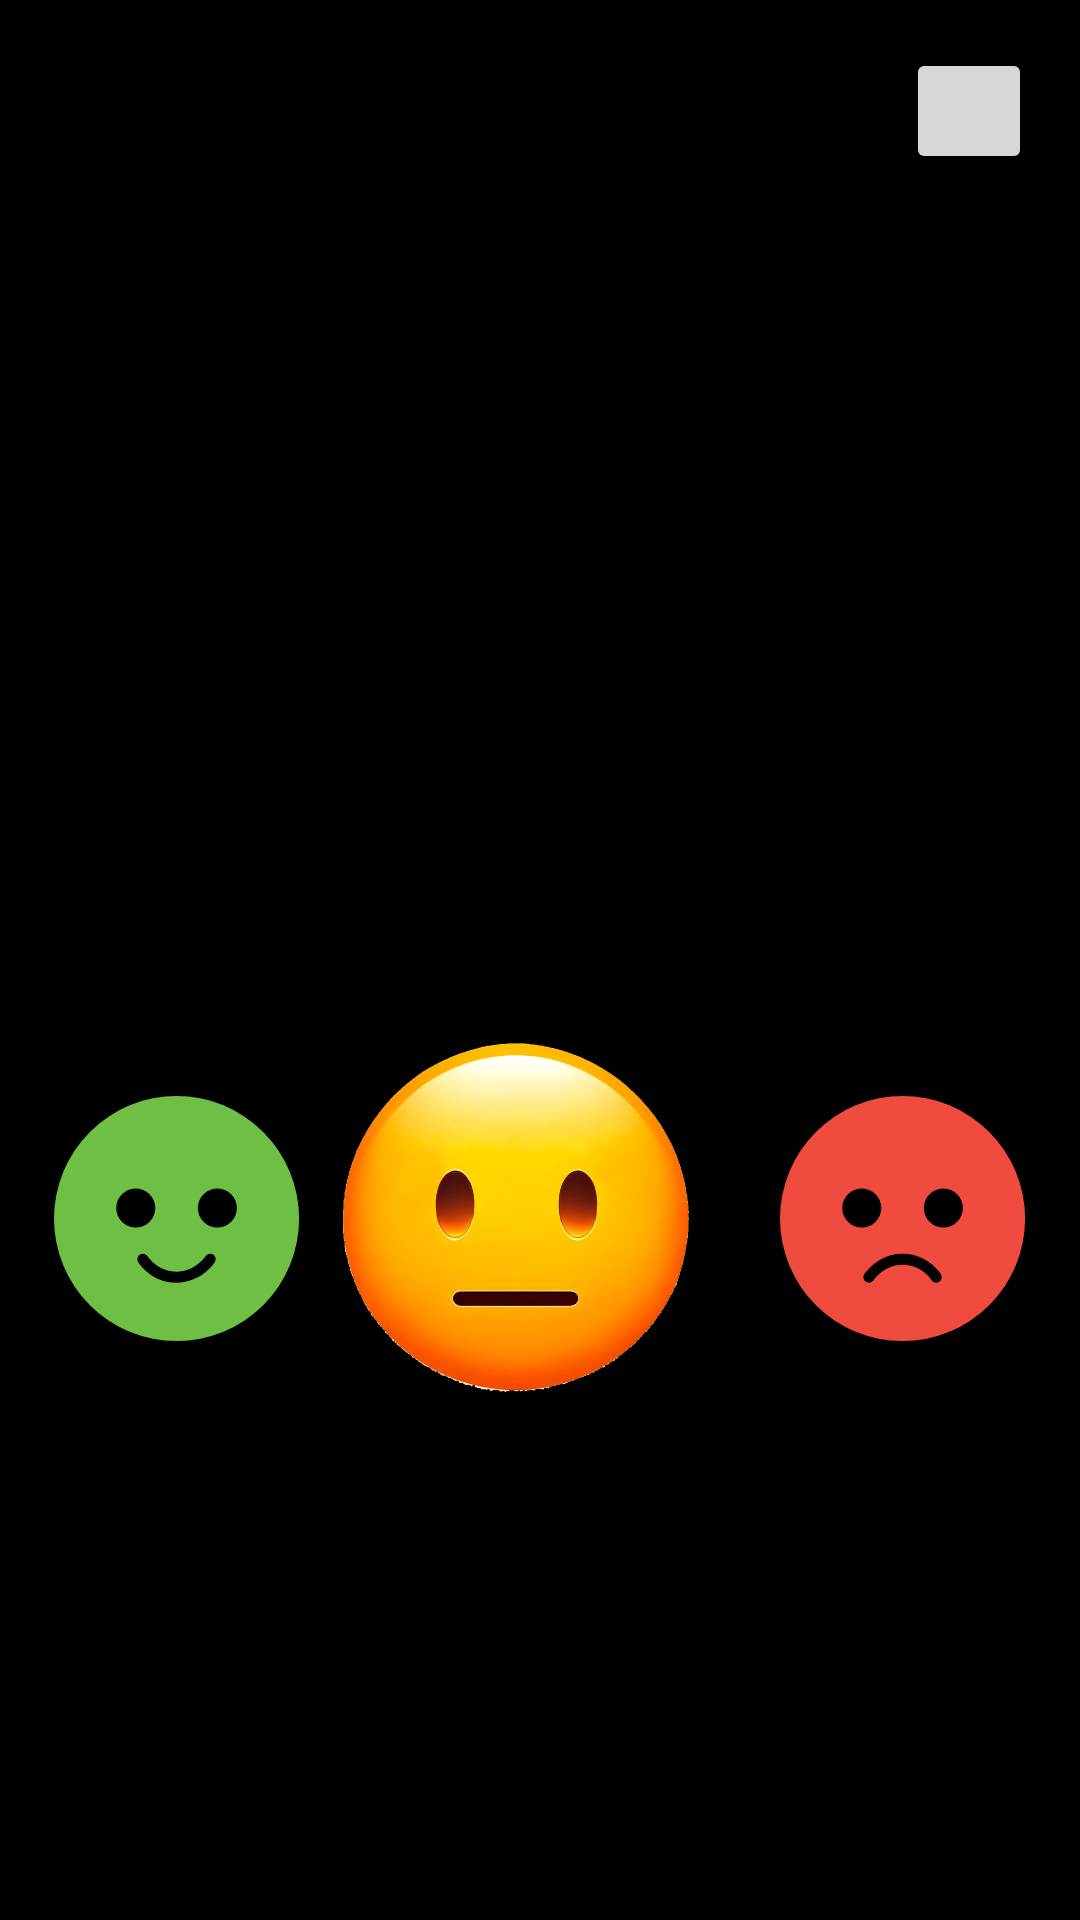

Named icons in this screenshot (1080*1920) and their bounding boxes, box(x1, y1, x2, y2):
alegre: box(54, 1096, 299, 1341)
neutral: box(343, 1043, 689, 1392)
